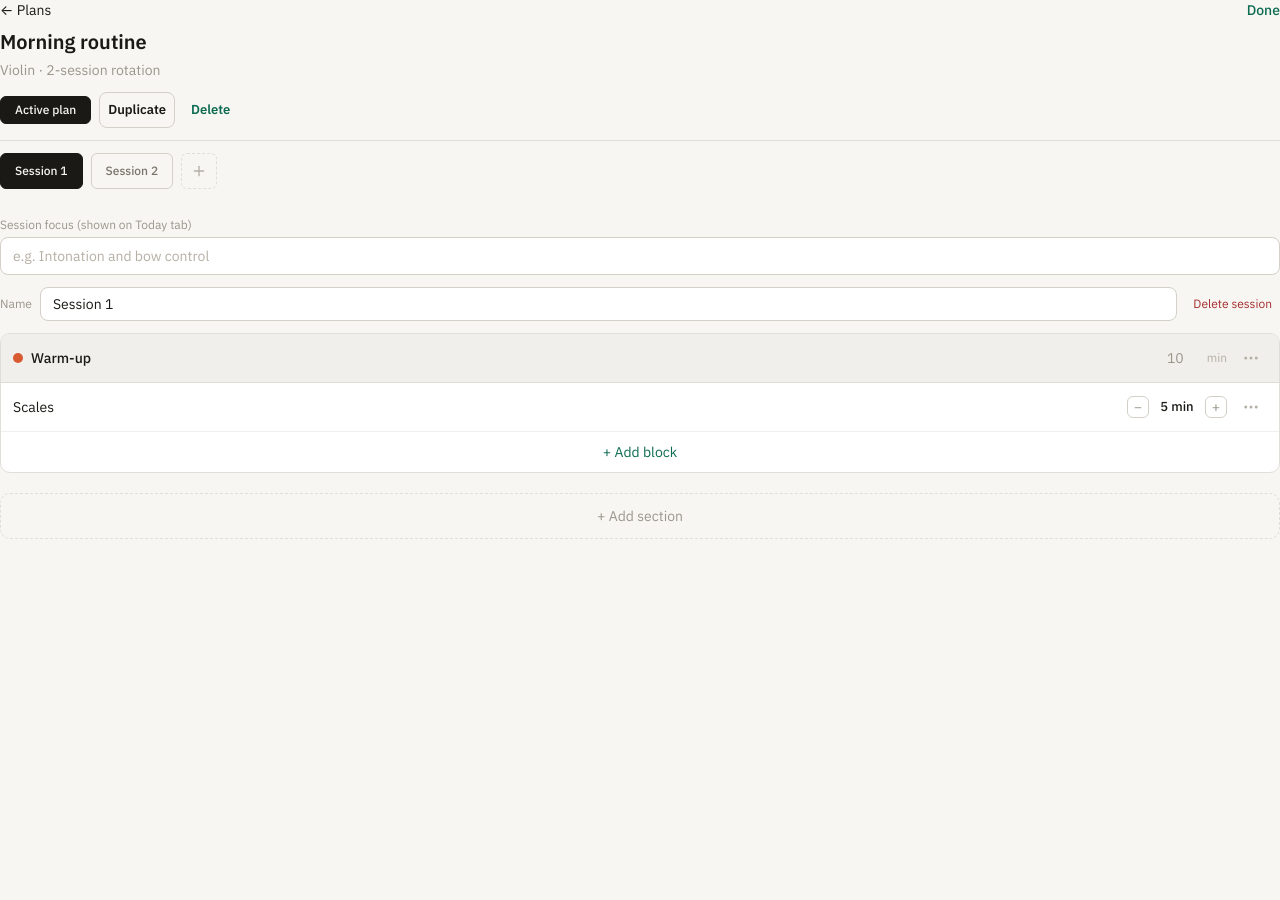
Test case: TemplateEditorPage — destructive confirmations › leaves the block alone when the confirm is cancelled
Check: the 1st field showing "Morning routine" is shown, box [0,28,1279,56]
Click the button named "Block actions": (1251,406) [1235,390,1267,422]
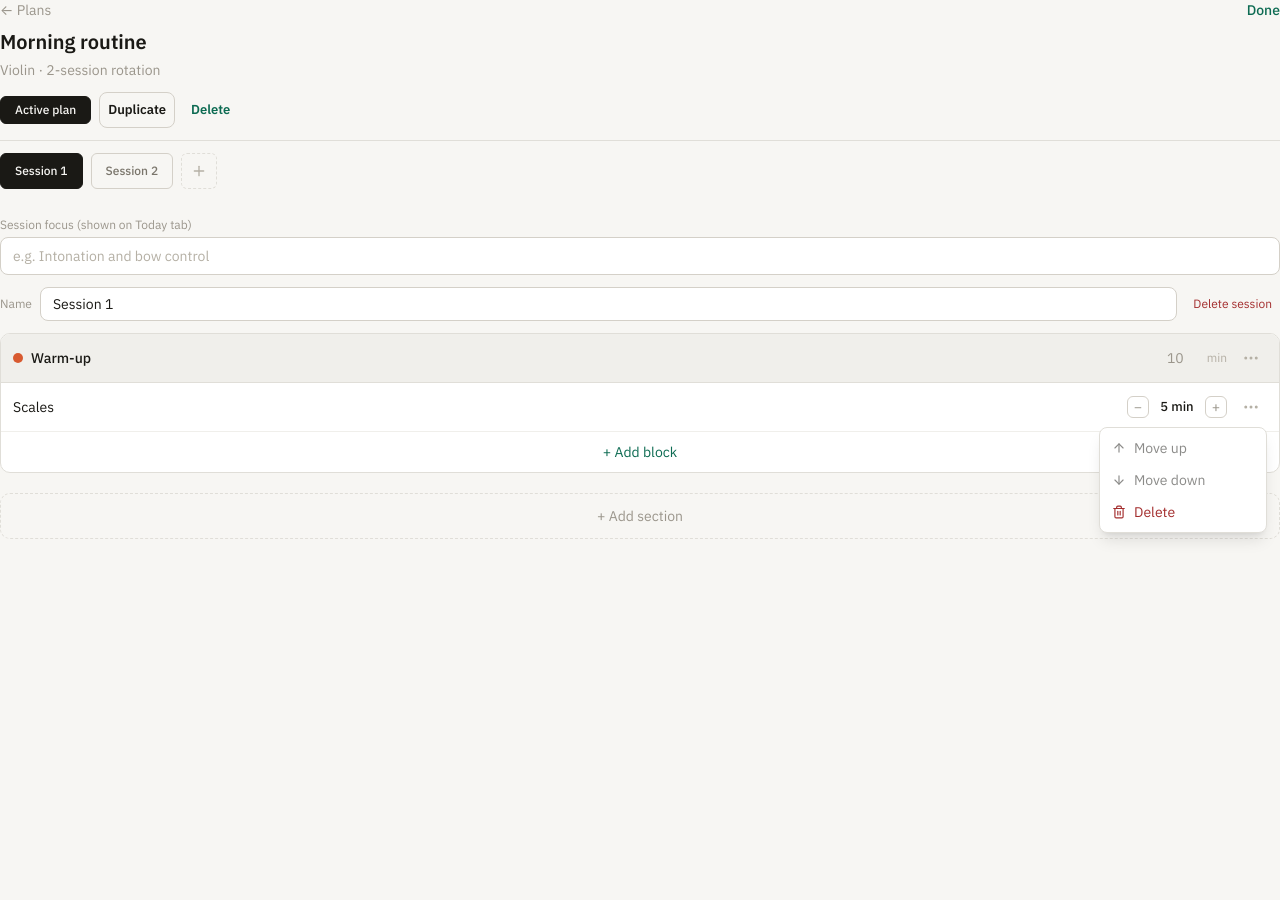
Click the menu item "Delete": (1144,512) [1112,503,1175,521]
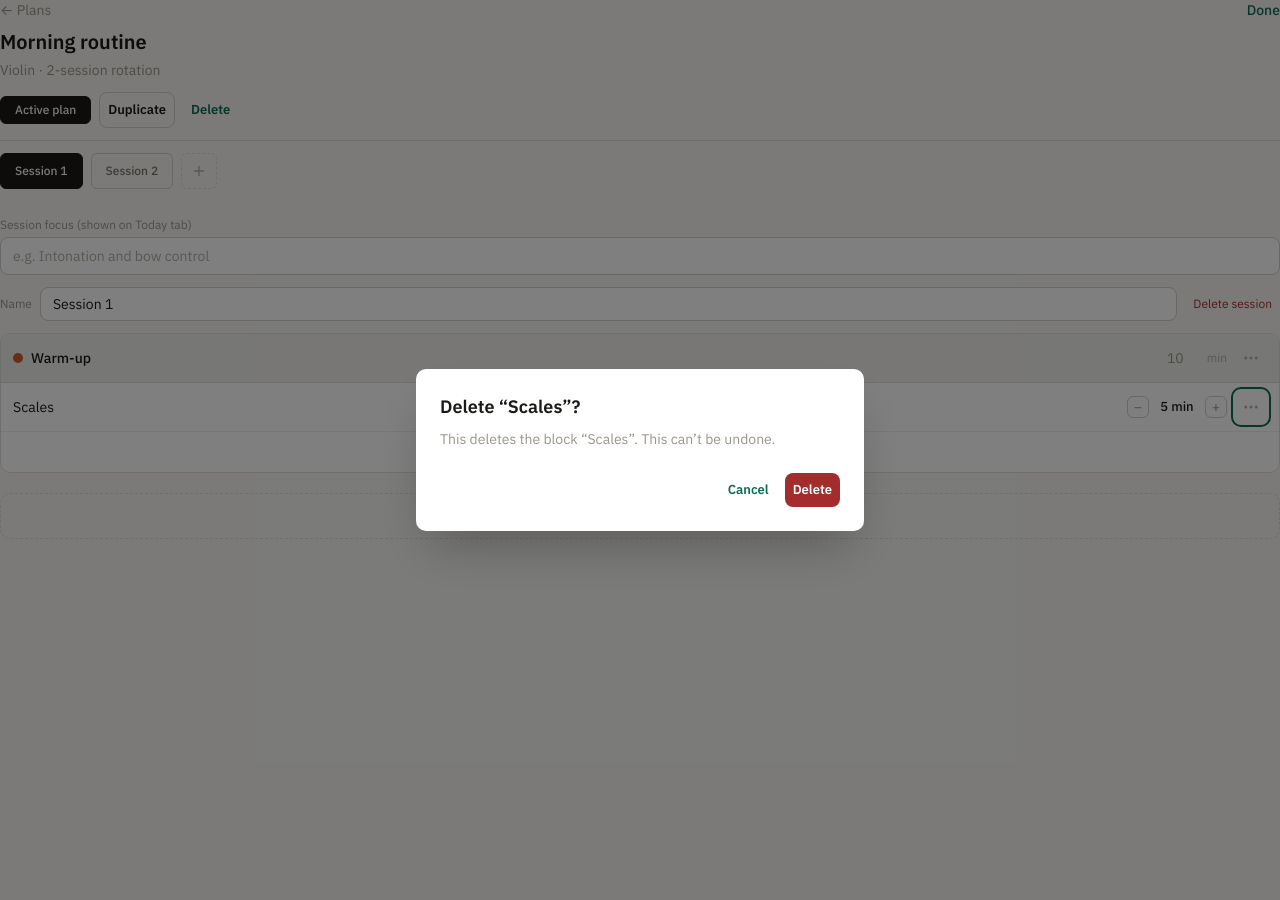
Click the button "Cancel": (748,490) [720,473,777,507]
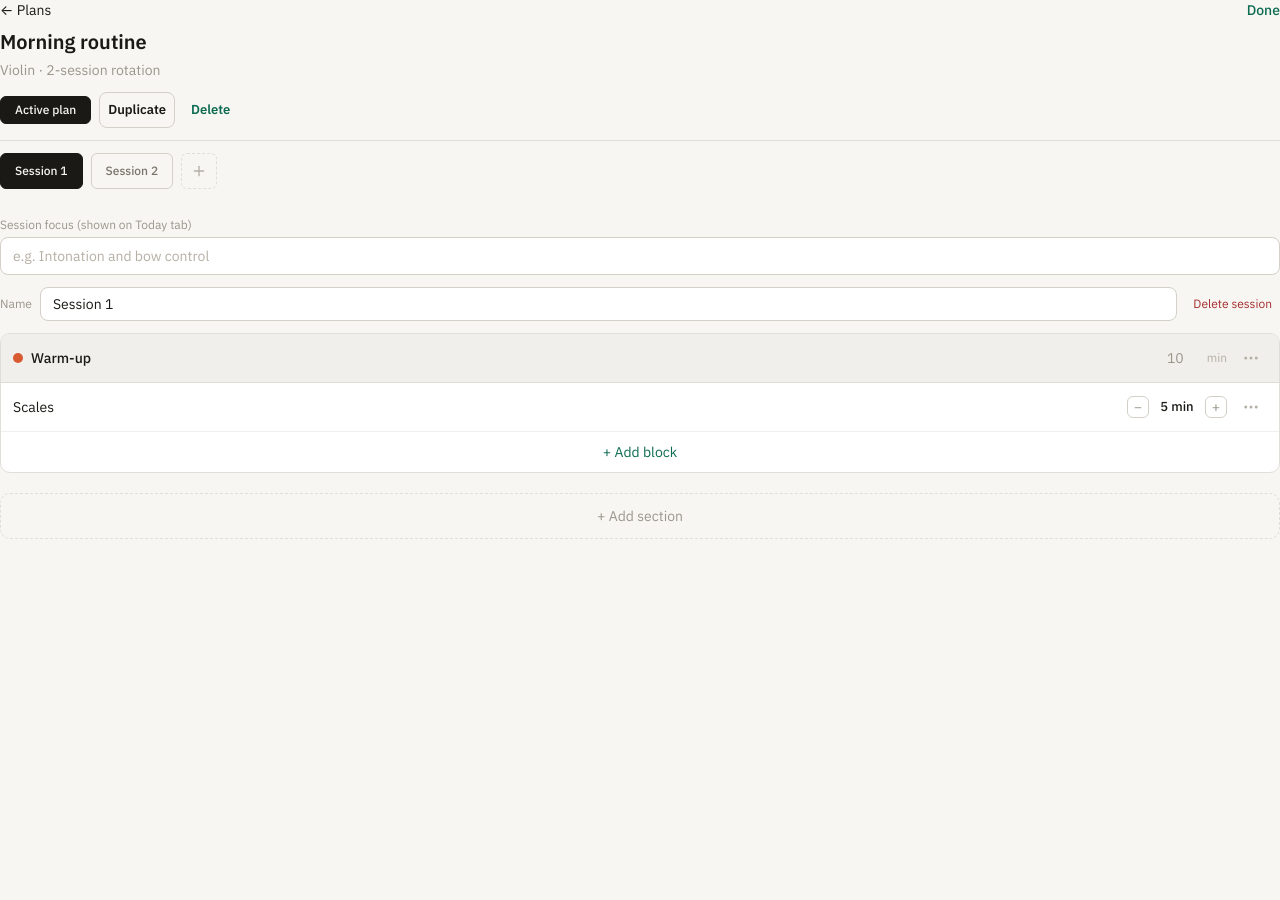
Check: the dialog is gone
